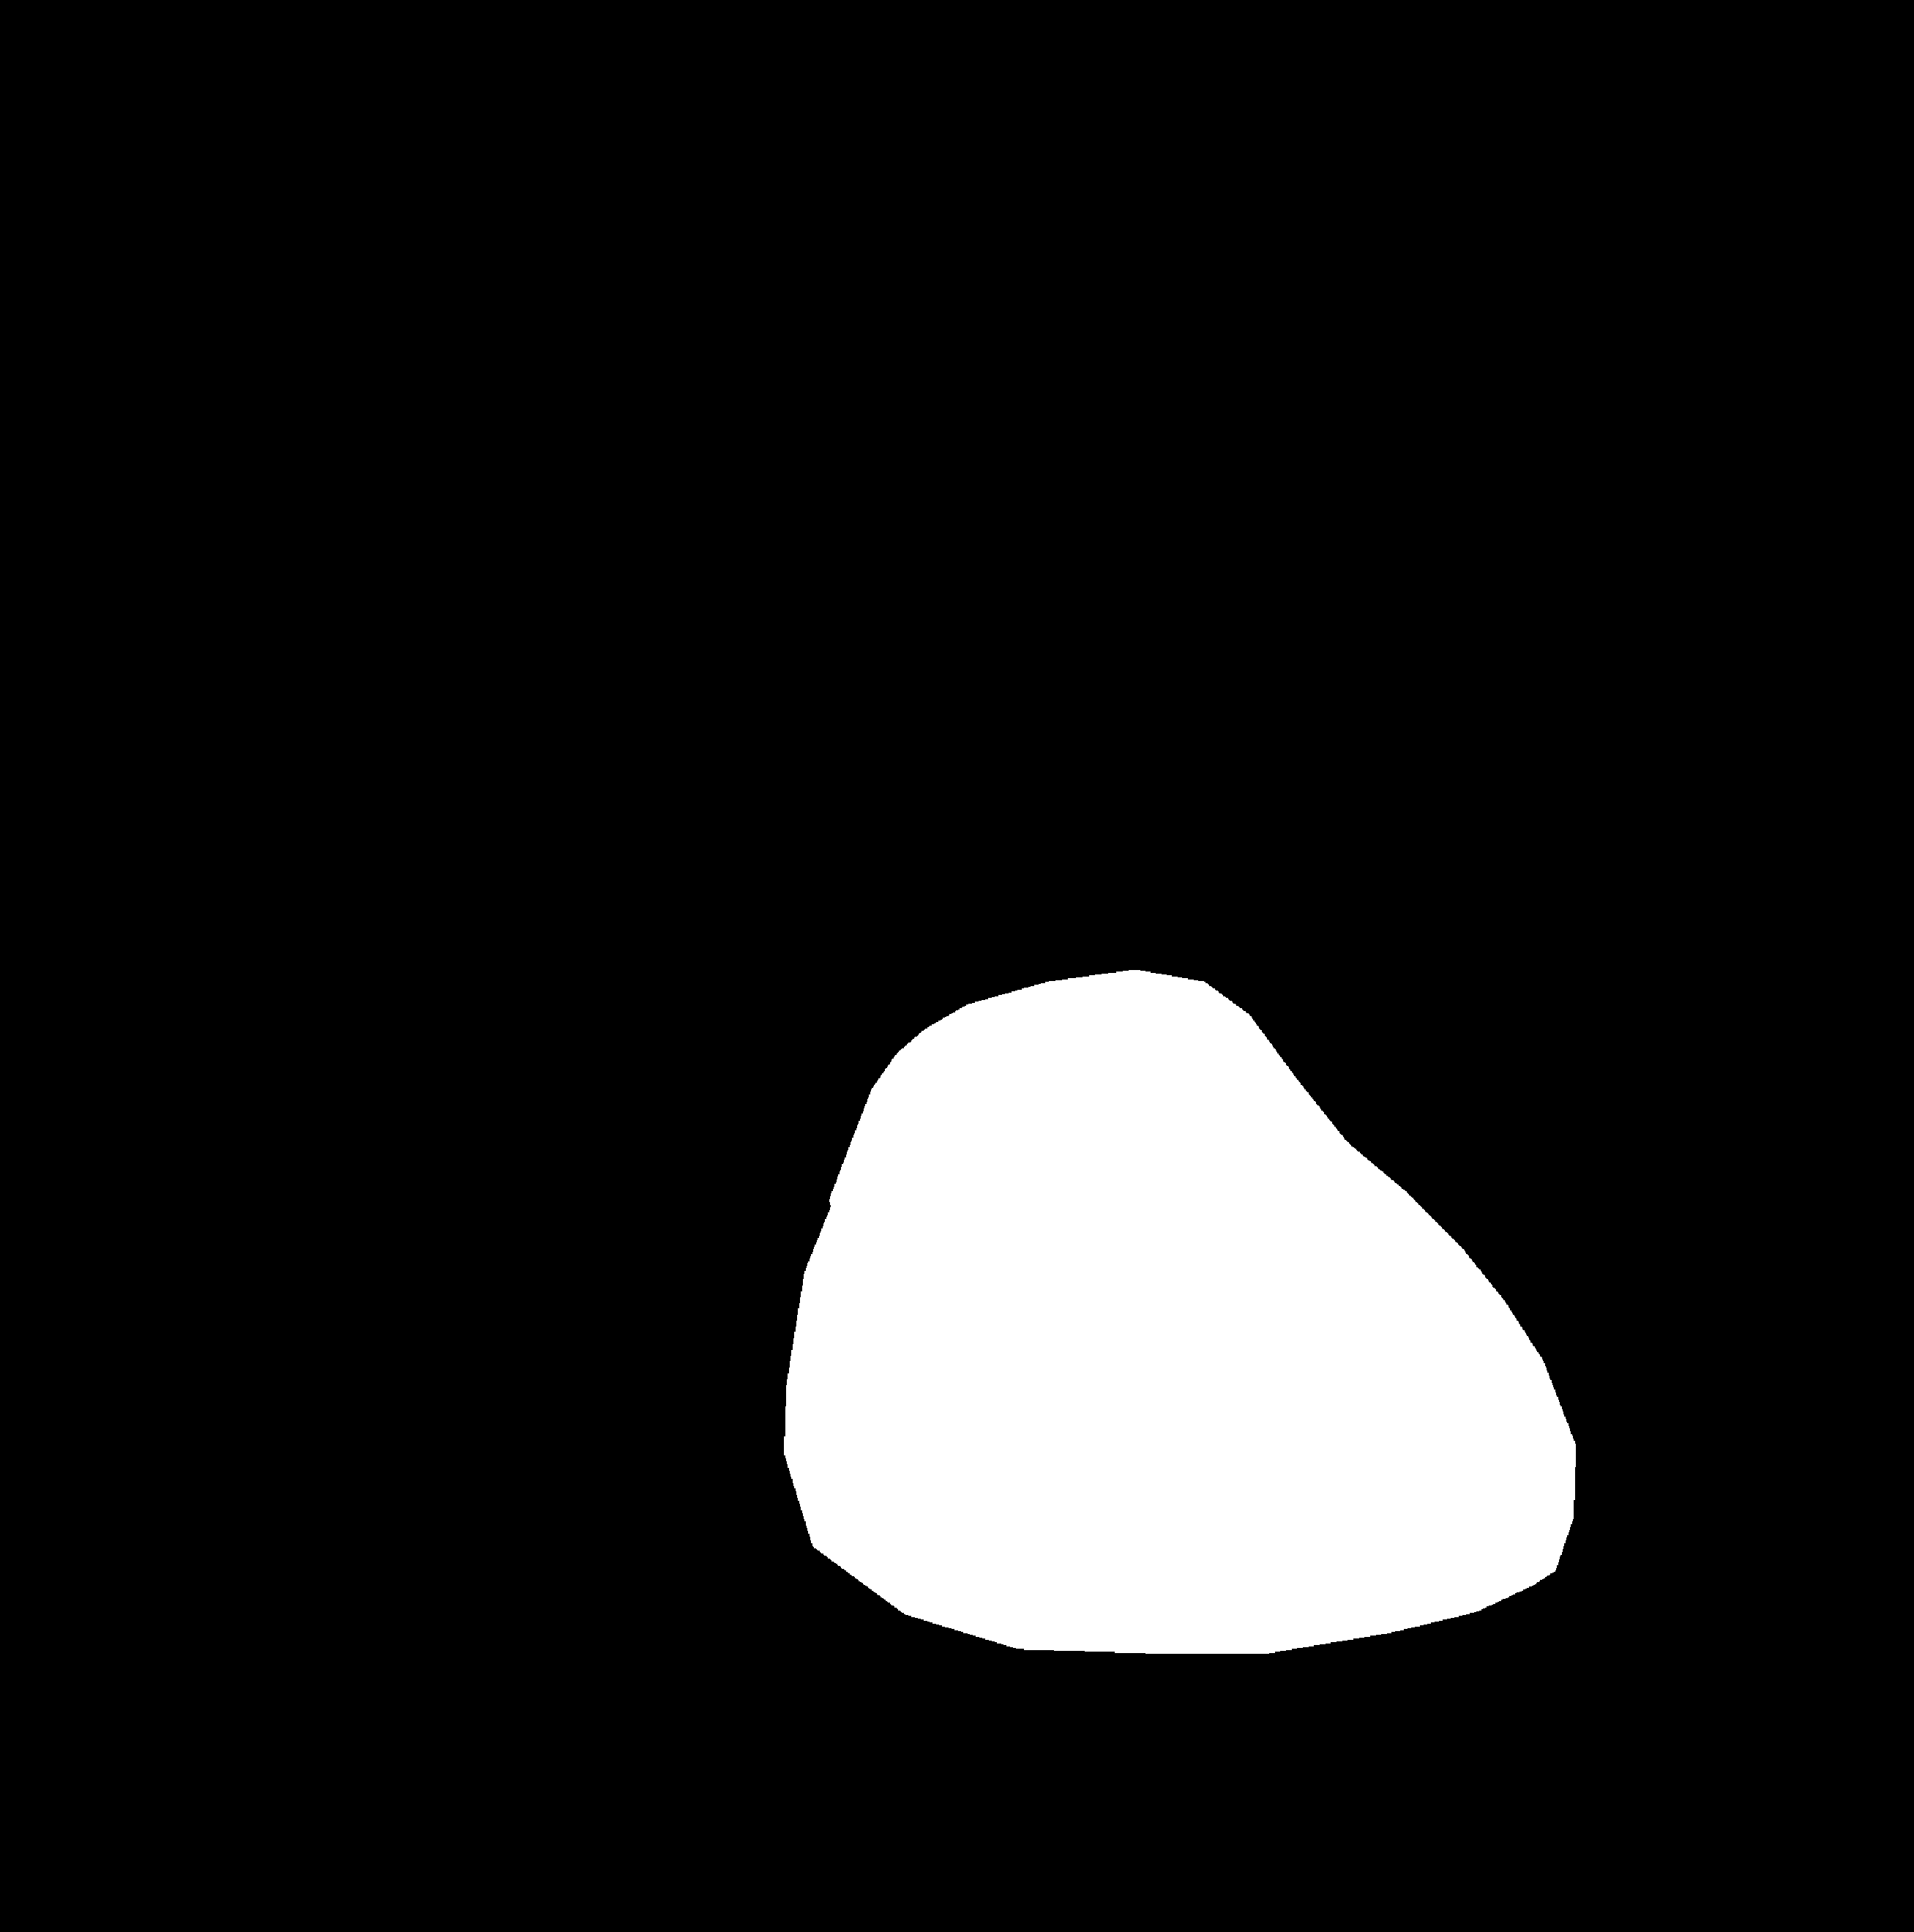heart: (766, 1069, 1576, 1674)
left_lung: (196, 288, 953, 1651)
right_lung: (1127, 235, 1728, 1744)
